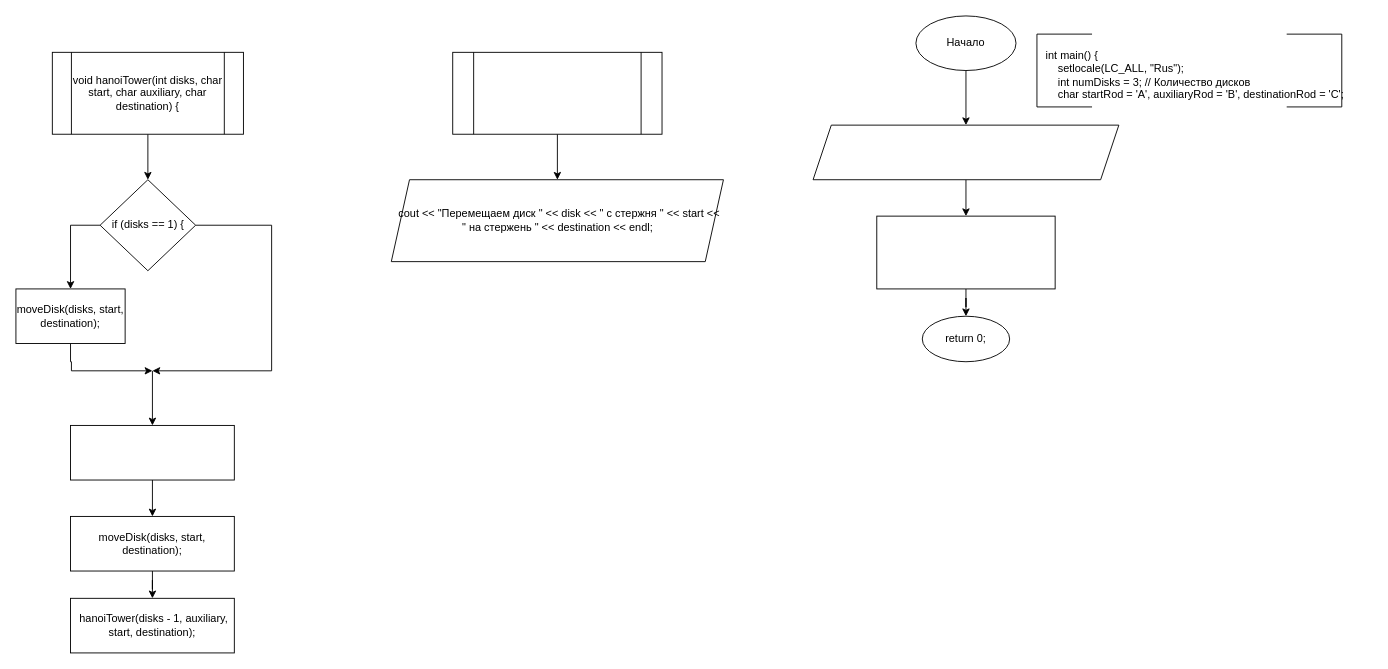
This 1388x669 diagram has some shape labels left out. The shapes that lost their labels are listed below. From the top down, each one's centre as x and y in pixels, then its label:
[557,92]: void moveDisk(int disk, char start, char destination) {
[965,152]: cout << "Ходы для решения Ханойской башни с " << numDisks << " диск:" << endl;
[965,252]: hanoiTower(numDisks, startRod, auxiliaryRod, destinationRod);
[152,452]: hanoiTower(disks - 1, start, destination, auxiliary);
